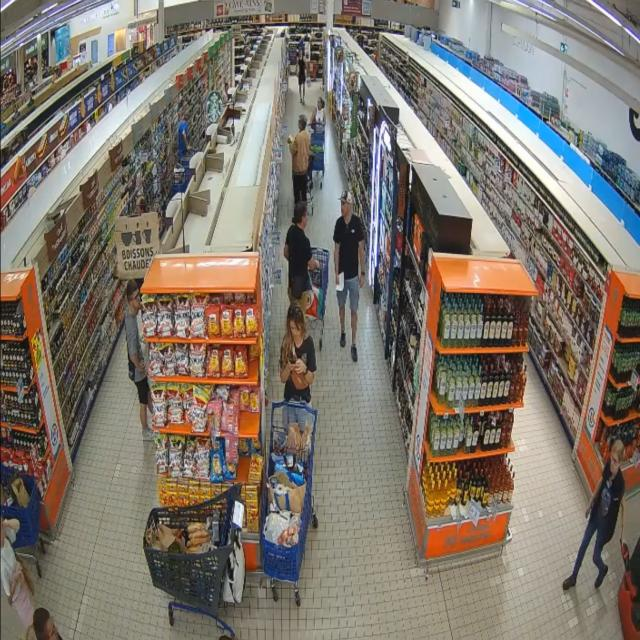article: (288, 134, 293, 141)
bags: (223, 533, 245, 604), (268, 472, 306, 513), (10, 474, 29, 507), (306, 287, 324, 318), (292, 274, 310, 299), (290, 370, 309, 390), (128, 358, 136, 381)
hands: (10, 569, 21, 595), (293, 359, 306, 374), (621, 535, 628, 548), (138, 360, 145, 372), (312, 260, 320, 269), (285, 362, 292, 372), (586, 504, 591, 518), (360, 275, 364, 288), (336, 273, 339, 286), (287, 137, 292, 143), (186, 145, 189, 151)
person: (563, 441, 624, 590), (334, 191, 364, 361), (125, 280, 152, 439), (284, 201, 319, 310), (0, 518, 33, 629), (280, 304, 316, 405), (289, 115, 310, 203), (26, 608, 61, 639), (298, 53, 307, 104), (310, 98, 326, 126), (178, 114, 188, 157)
